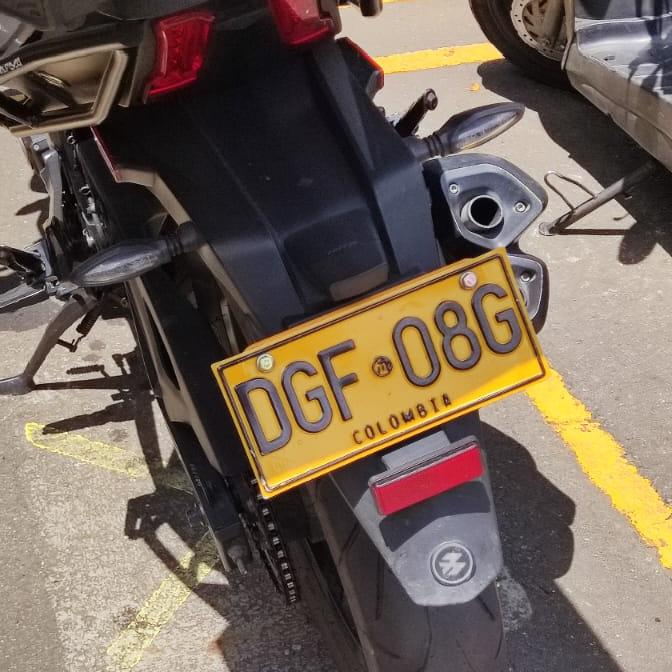plates: (215, 249, 551, 500)
